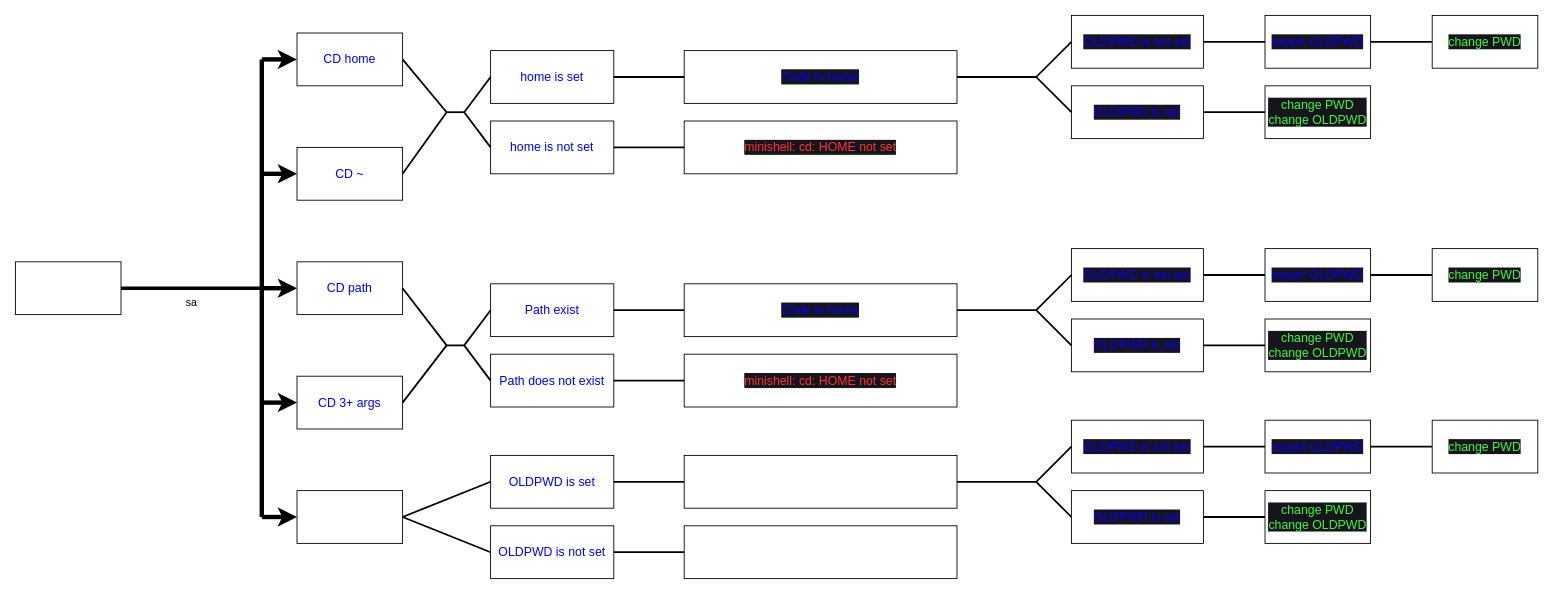
Image size: 1553x594. Some labels were removed from this diagram. The shapes that lost their labels are listed below. From the top down, each one's centre as x and y in pixels, then its label:
pixel 68 288: CD
pixel 820 481: Chdir to OLDPWD
pixel 349 516: CD -
pixel 820 552: minishell : cd : OLDPWD not set
